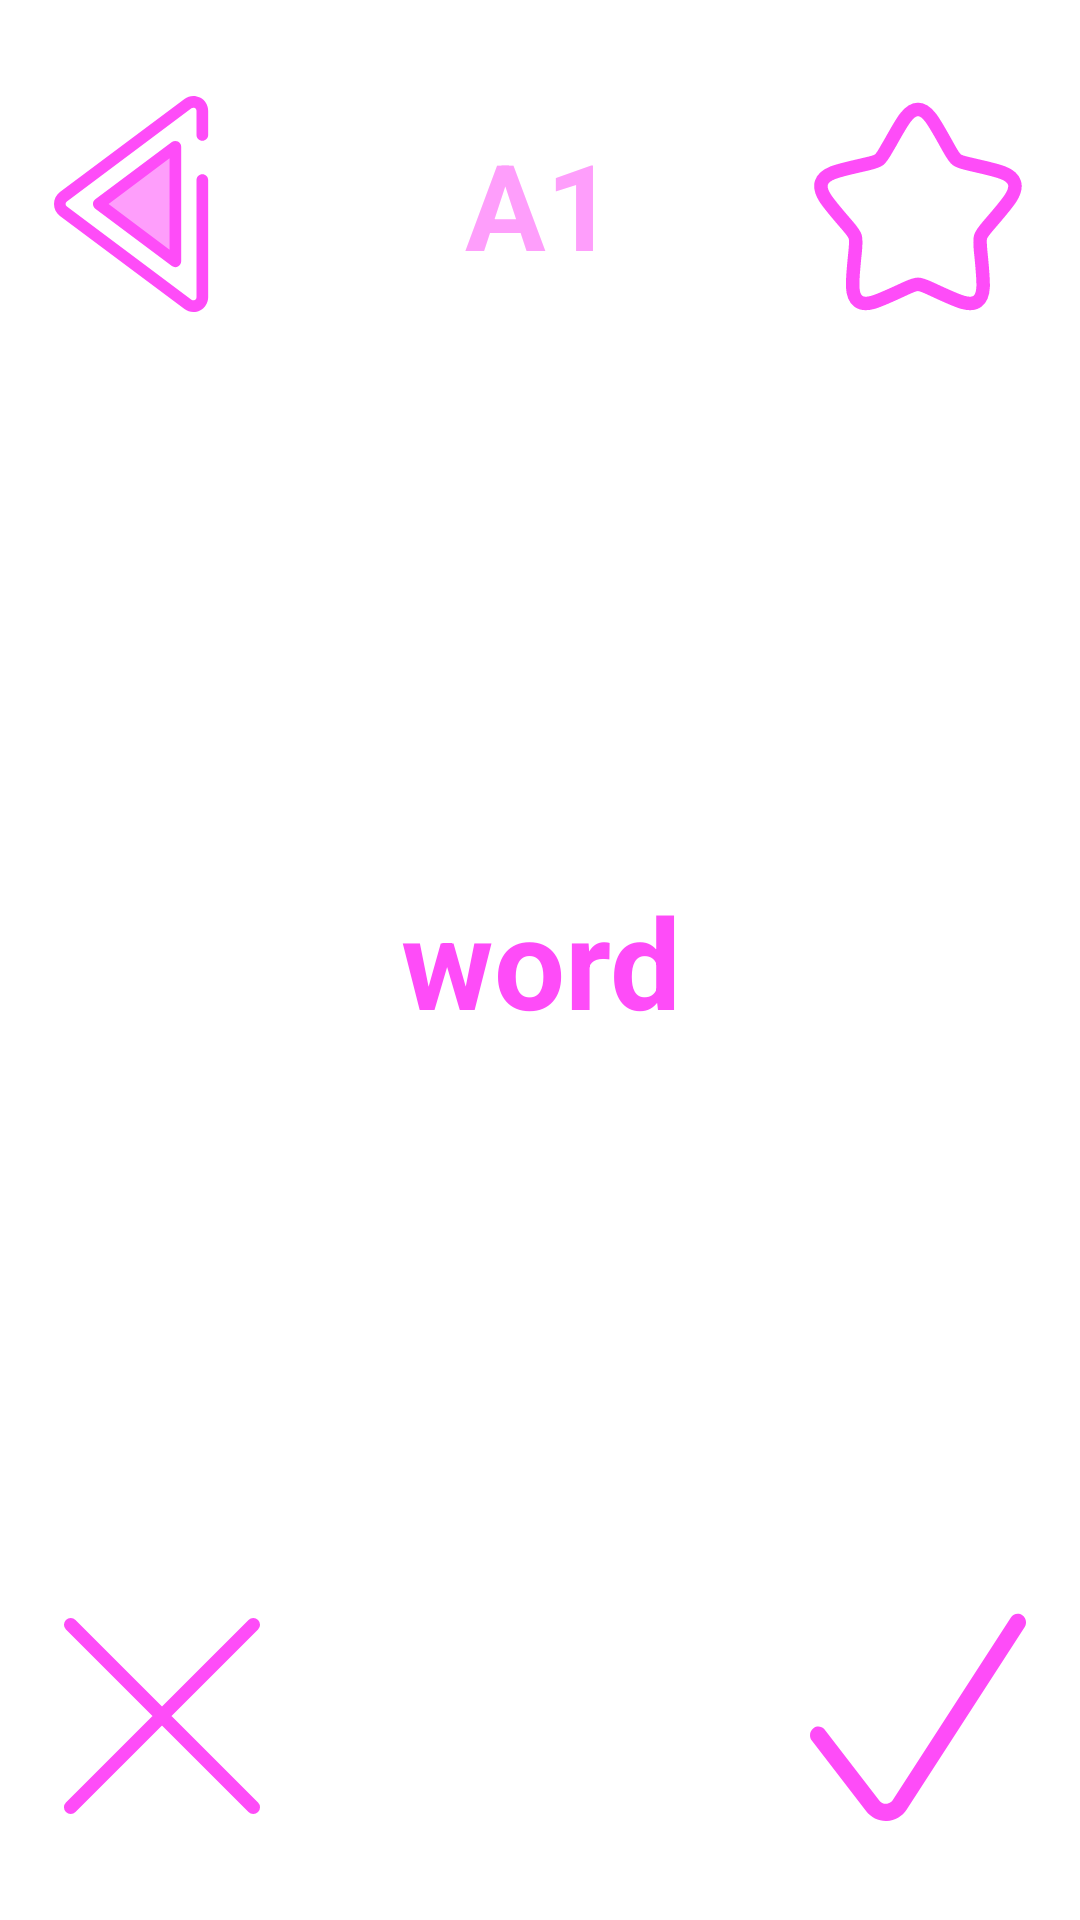

Named icons in this screenshot (1080 x 1920) and their bounding boxes, (x1, y1, x2, y2):
back: (54, 96, 209, 312)
check: (810, 1613, 1026, 1821)
cross: (64, 1618, 260, 1814)
star: (814, 102, 1022, 311)
